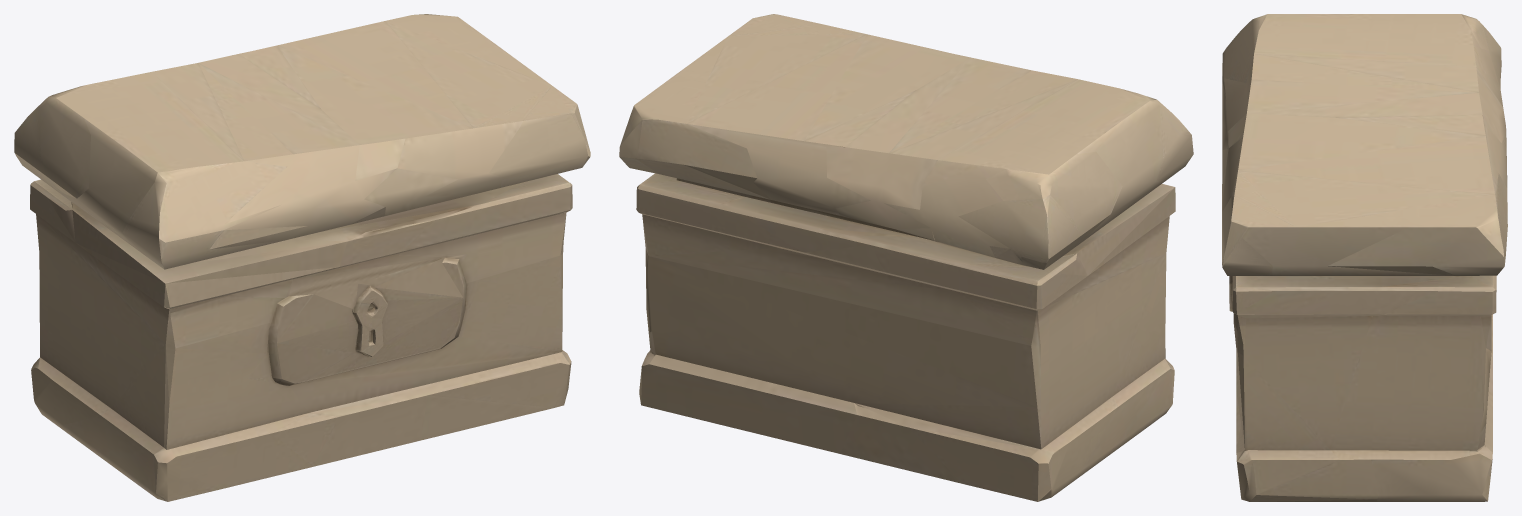
File: sarcophagus.glb
The picture shows the model from 3 angles, left to right: view 1: azimuth 30°, elevation 25°; view 2: azimuth 150°, elevation 25°; view 3: azimuth 270°, elevation 25°; orthographic projection. The views are drawn at different scales.
Parts seen in each view (by area): view 1: Mesh_0; view 2: Mesh_0; view 3: Mesh_0.
Part boxes in pixels (<box>): Mesh_0: <box>14,14,590,501</box>; Mesh_0: <box>619,14,1193,501</box>; Mesh_0: <box>1222,14,1507,501</box>.
Size of the model in its own units: 1.9 by 1.34 by 1.15.
1 material, 1 textured.
